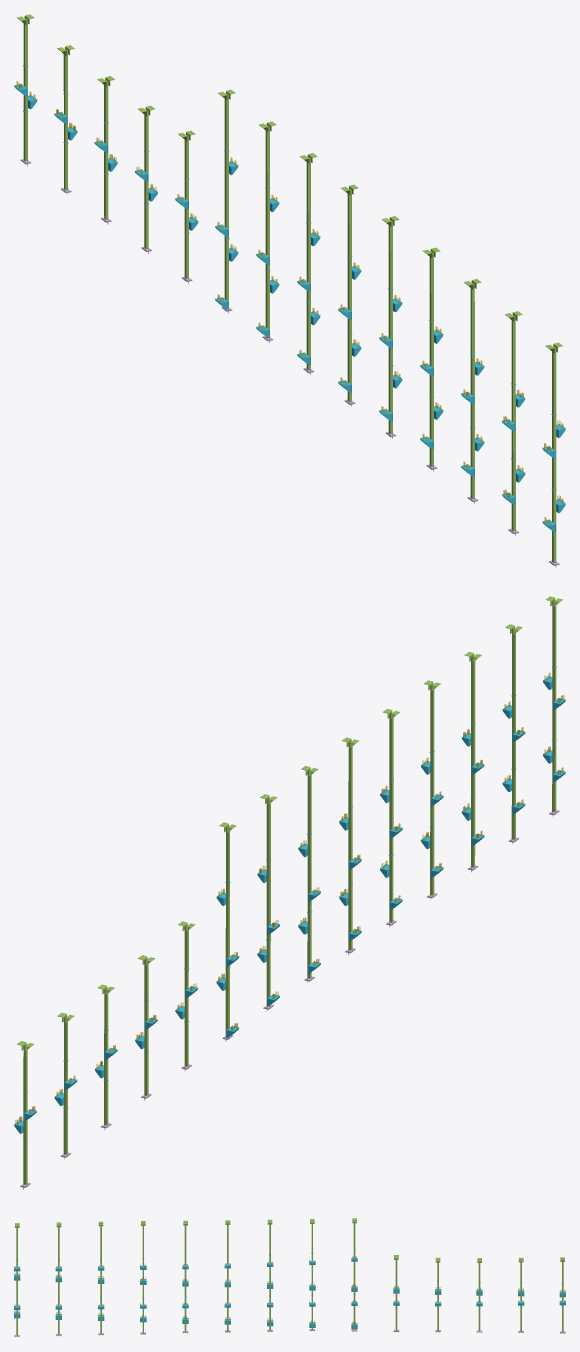
The model's file is ramp1.glb.
3 views of the same model, one above another, from view 1: azimuth 30°, elevation 25°; view 2: azimuth 150°, elevation 25°; view 3: azimuth 270°, elevation 25° (orthographic). The views are drawn at different scales.
Size of the model in its own units: 0.867 by 8.3 by 35.17.
